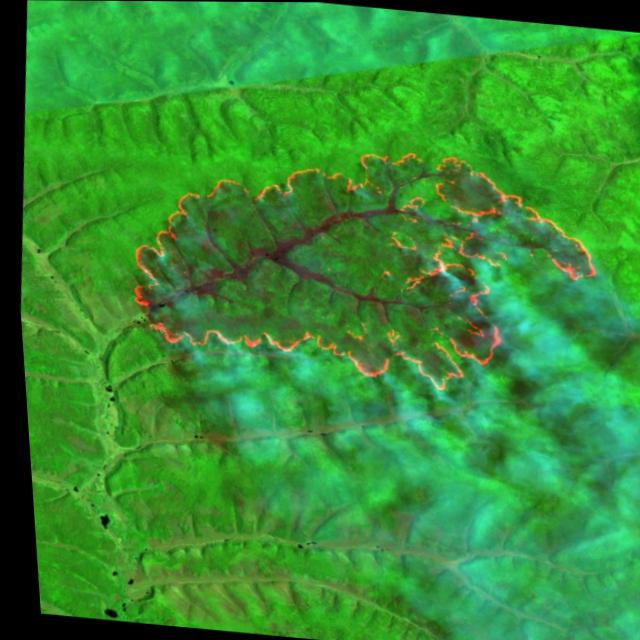fire: (96, 118, 623, 411)
